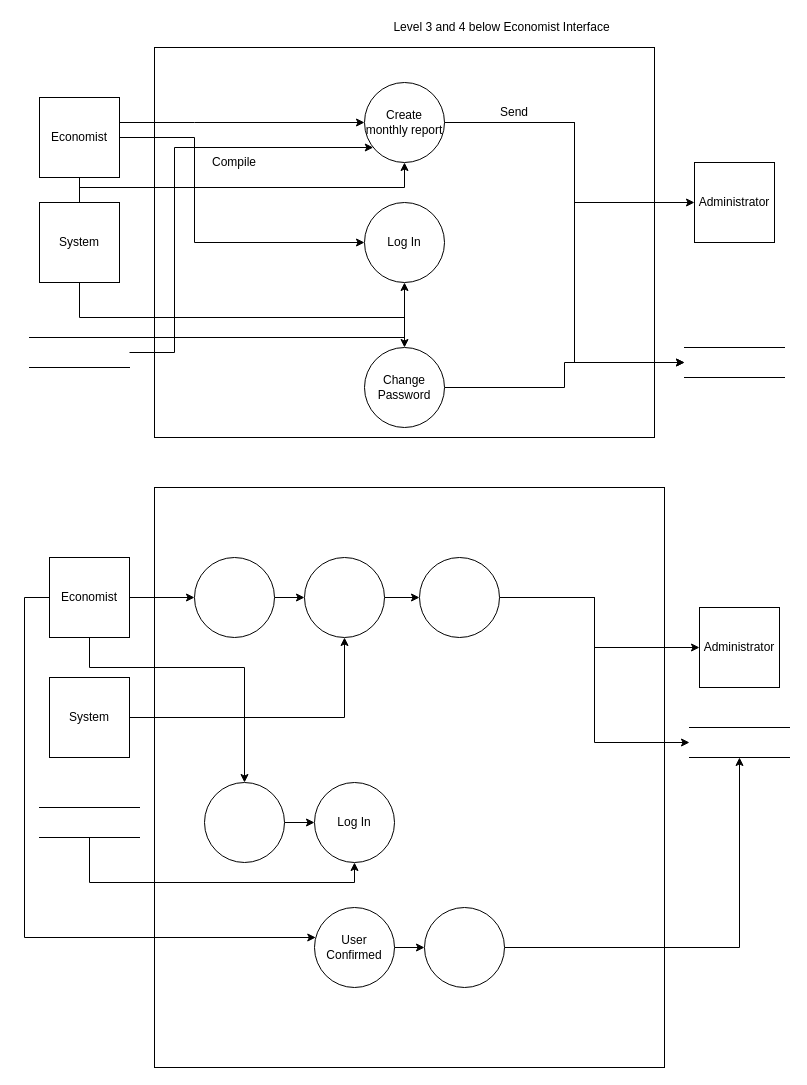
Image size: 807x1085. Some labels were removed from this diagram. The shapes that lost their labels are listed below. From the top down, each one's box as (x1, y1, x2, y2) in pixels, then its label:
(194, 556, 274, 638): Request report
(304, 556, 384, 638): Compile with auto data
(418, 556, 500, 638): Send Report
(204, 782, 284, 862): Interface Accessed
(424, 906, 504, 988): Password Changed
